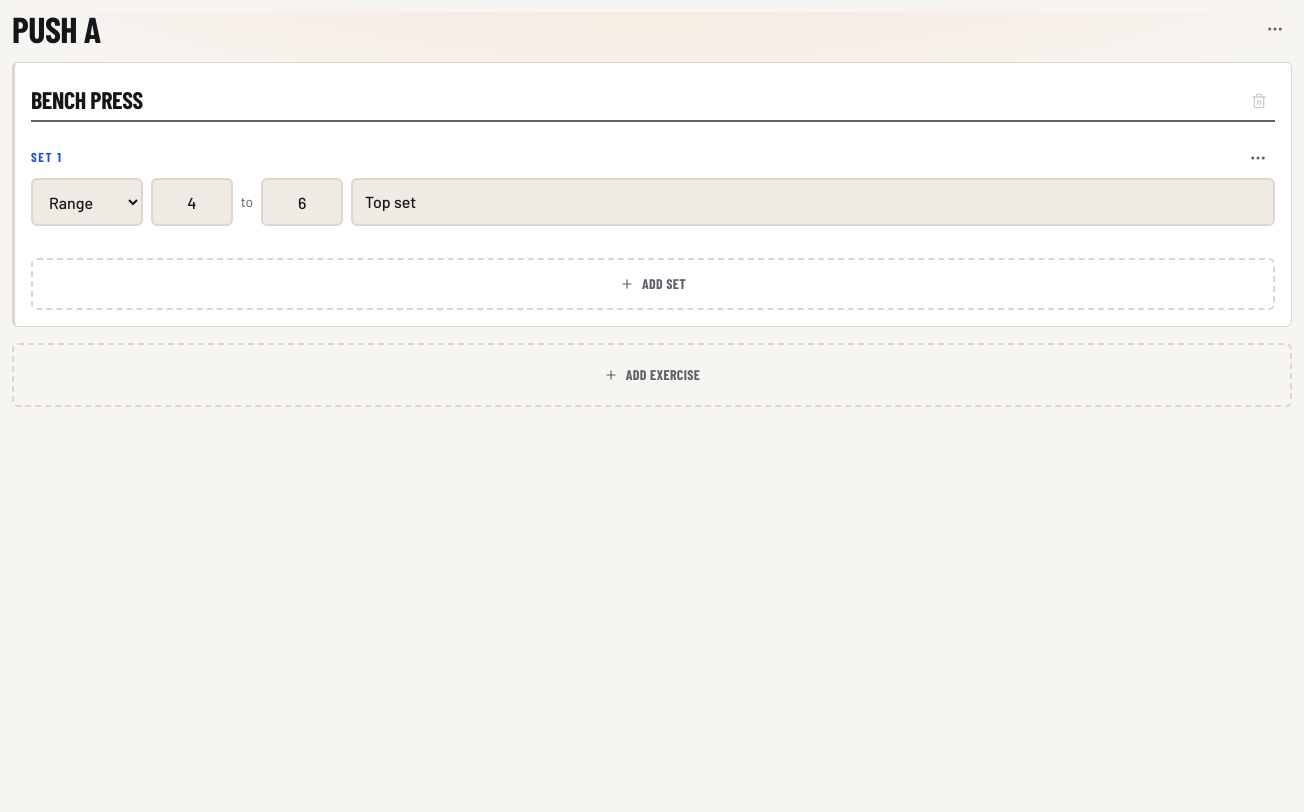
Test: WorkoutEditor › turns adding or removing an exercise into a change to save
This screenshot has width=1304, height=812.
Click the button "Add exercise" at (652,375), box [12,343,1292,407]
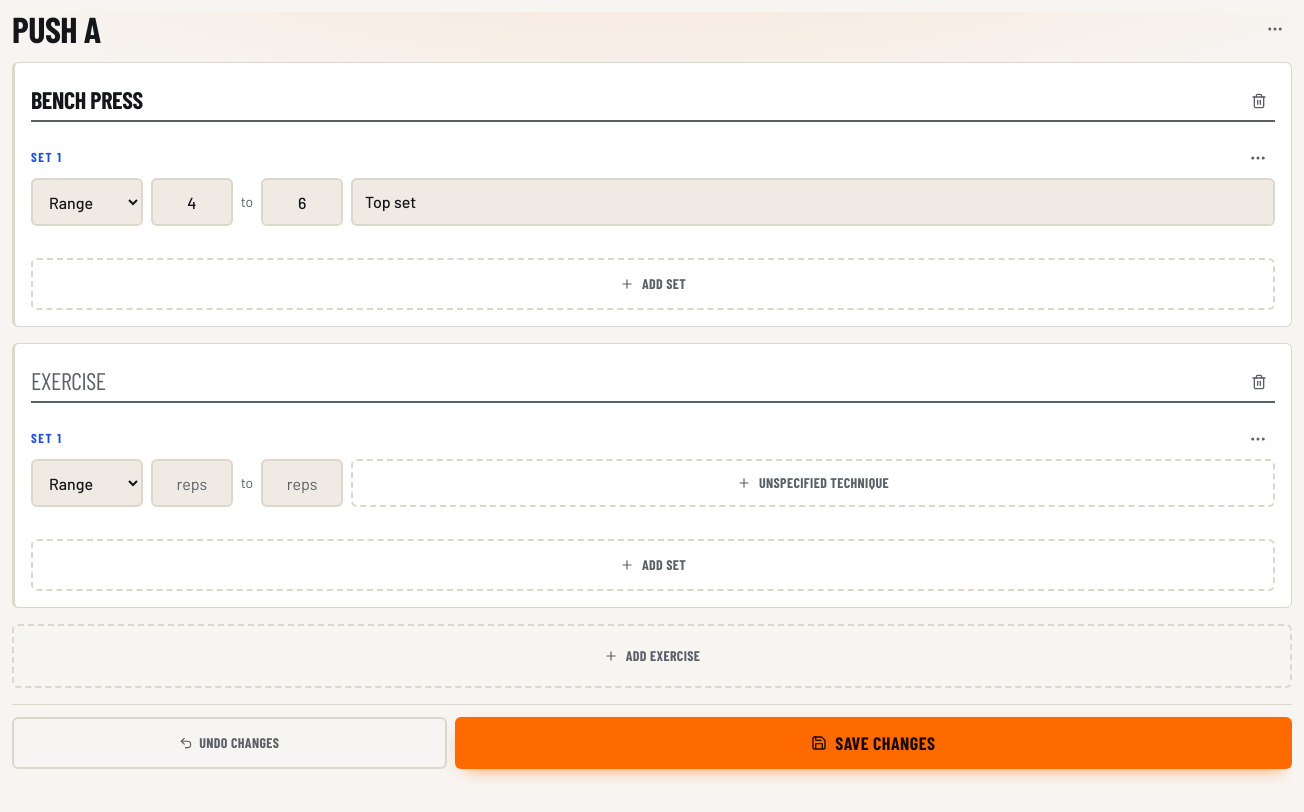
Now the button "Save changes" is enabled, box [455,717,1292,769]
Click the button named "Delete exercise 2" at (1259,382), box [1243,366,1275,398]
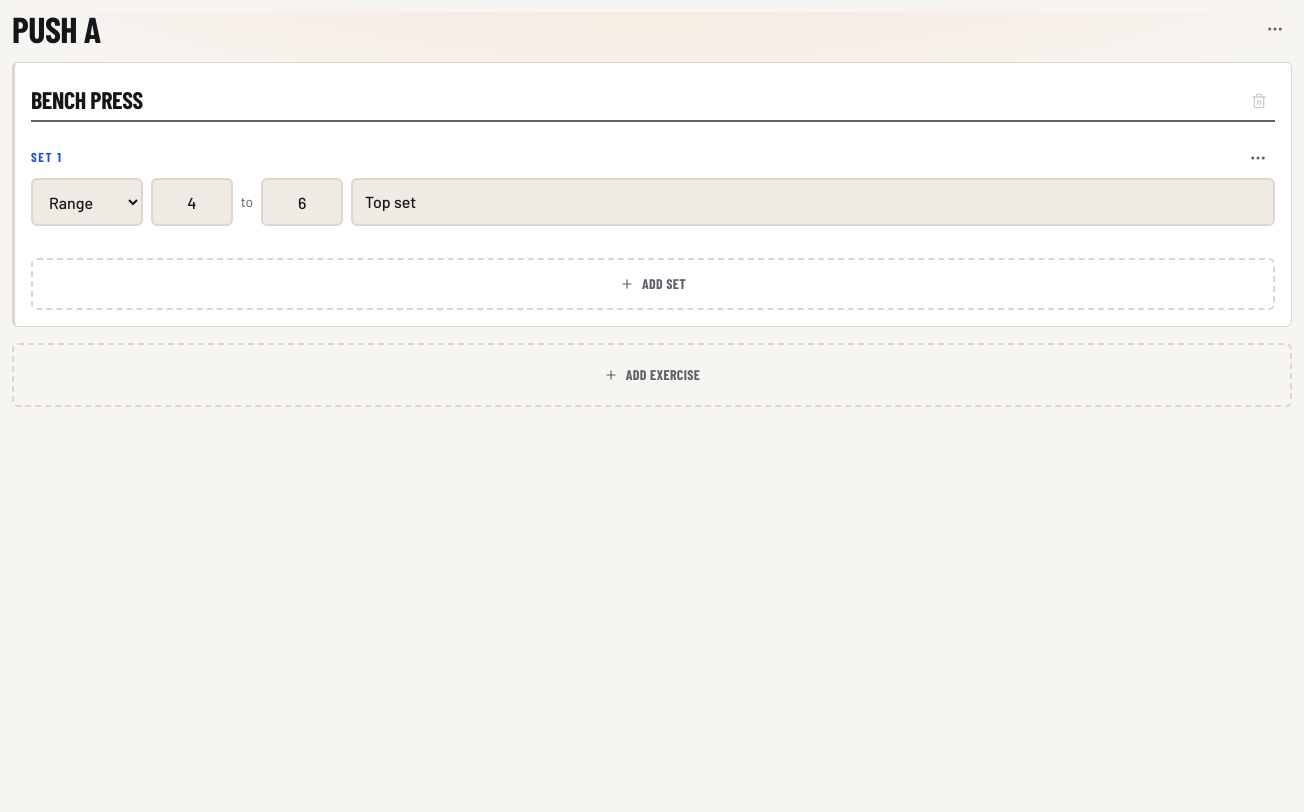
Now the button "Save changes" is gone
